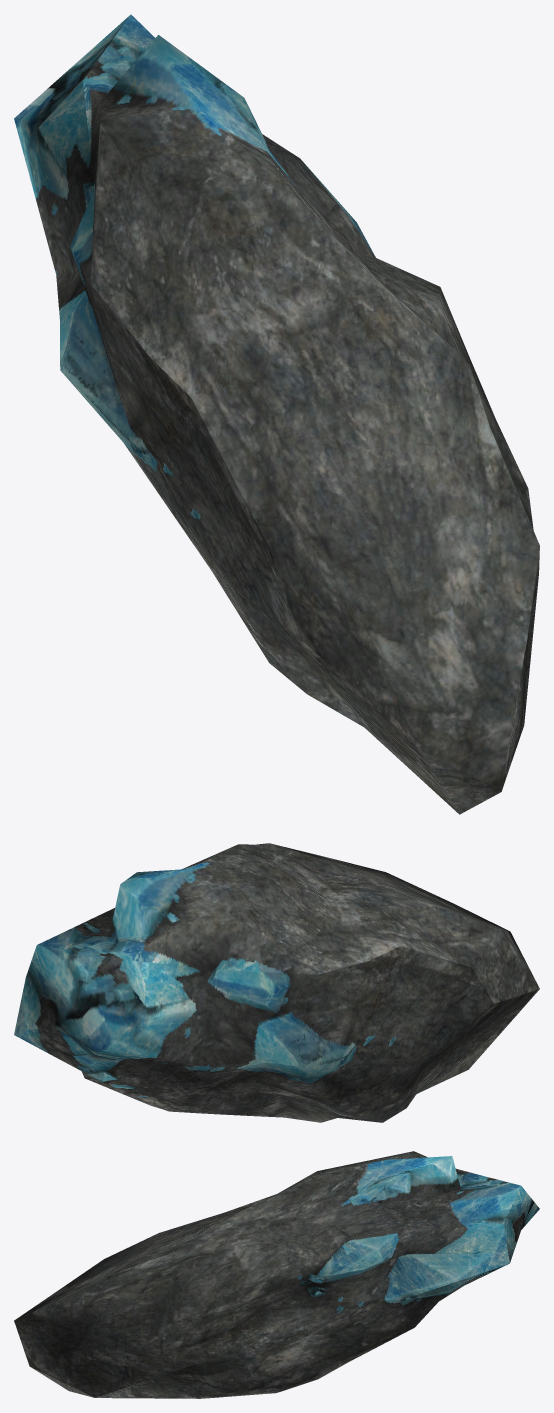
Rendered from shuijing005.FBX.
The picture shows the model from 3 angles, top to bottom: view 1: azimuth 30°, elevation 25°; view 2: azimuth 150°, elevation 25°; view 3: azimuth 270°, elevation 25°; orthographic projection. The views are drawn at different scales.
Visible parts, largest first — view 1: Stone_001_05; view 2: Stone_001_05; view 3: Stone_001_05.
Boxes of the visible parts, box(x1,y1,x2,y2) form: Stone_001_05: box(14, 14, 539, 814); Stone_001_05: box(14, 843, 539, 1122); Stone_001_05: box(14, 1151, 539, 1398).
Size of the model in its own units: 81.53 by 134 by 252.
Materials: 1 (1 with a texture image).
